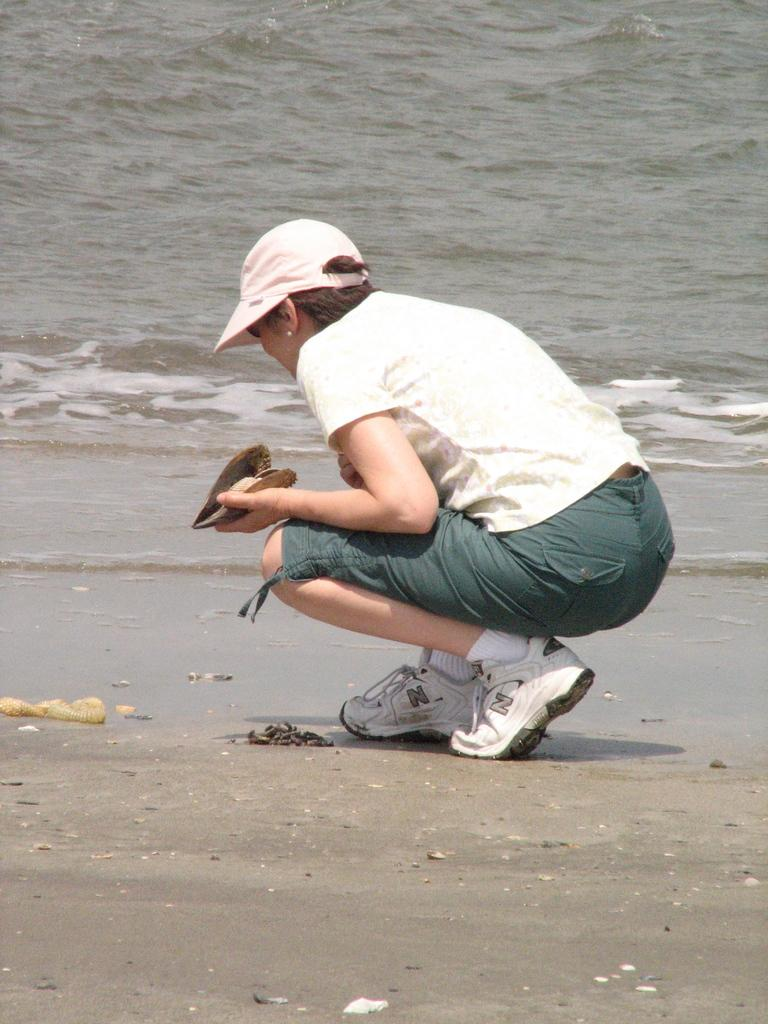Hat: (215, 218, 372, 354)
